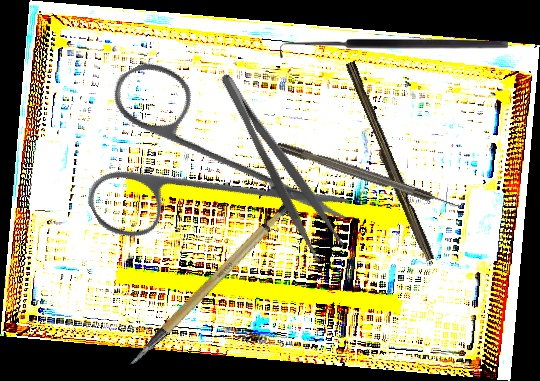Dressing Forceps: (215, 61, 347, 265)
Hook Surgical: (275, 139, 464, 214), (280, 38, 508, 60)
Iris Scissors: (41, 8, 356, 324)
Scalpel Handle: (106, 198, 310, 368), (339, 60, 438, 264)
